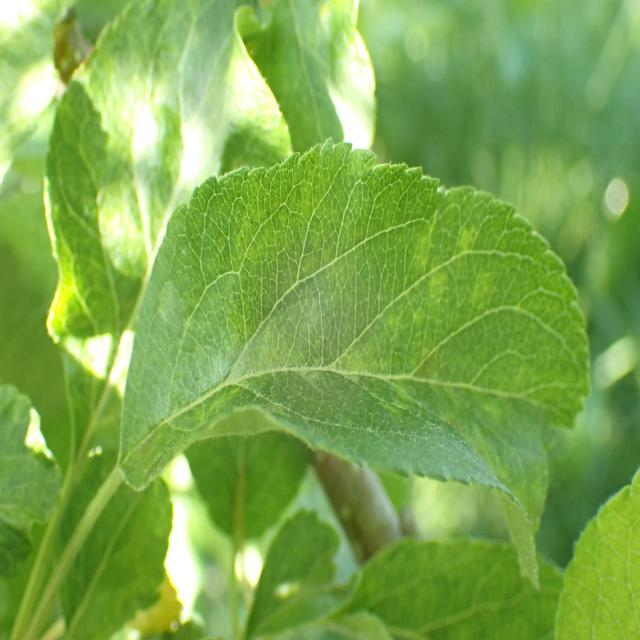scab: (149, 190, 590, 509)
